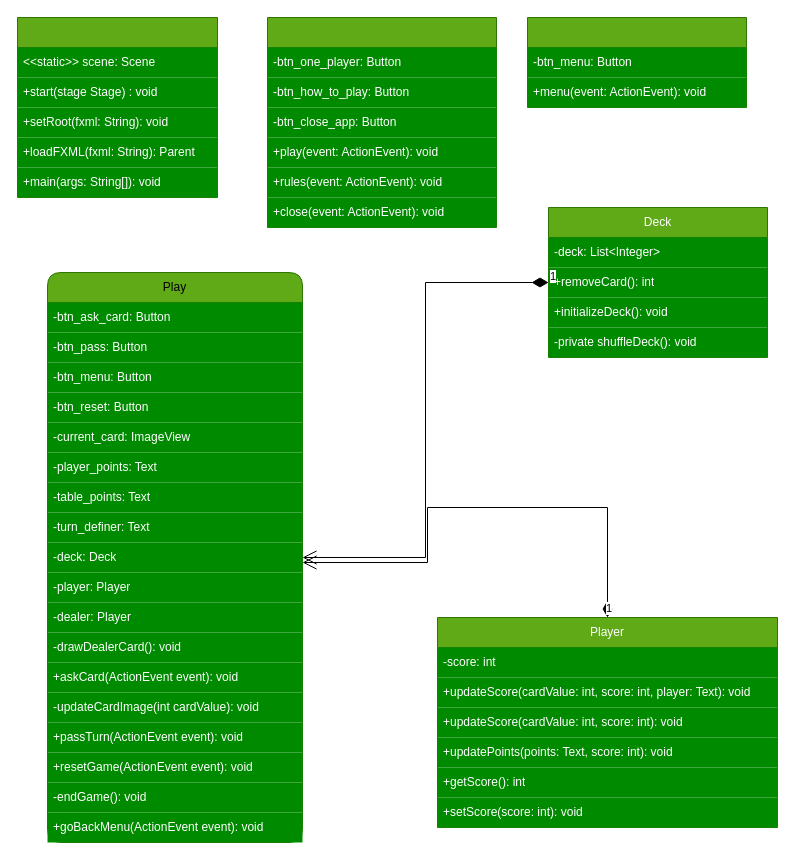
The diagram is 795 pixels wide and 860 high, and some of its shapes have lost their labels. The shapes that lost their labels are listed below. From the top down, each one's box as (x1, y1, x2, y2) in pixels, then its label:
(526, 16, 746, 108): Rules
(16, 16, 218, 198): App
(266, 16, 496, 228): MainMenu
